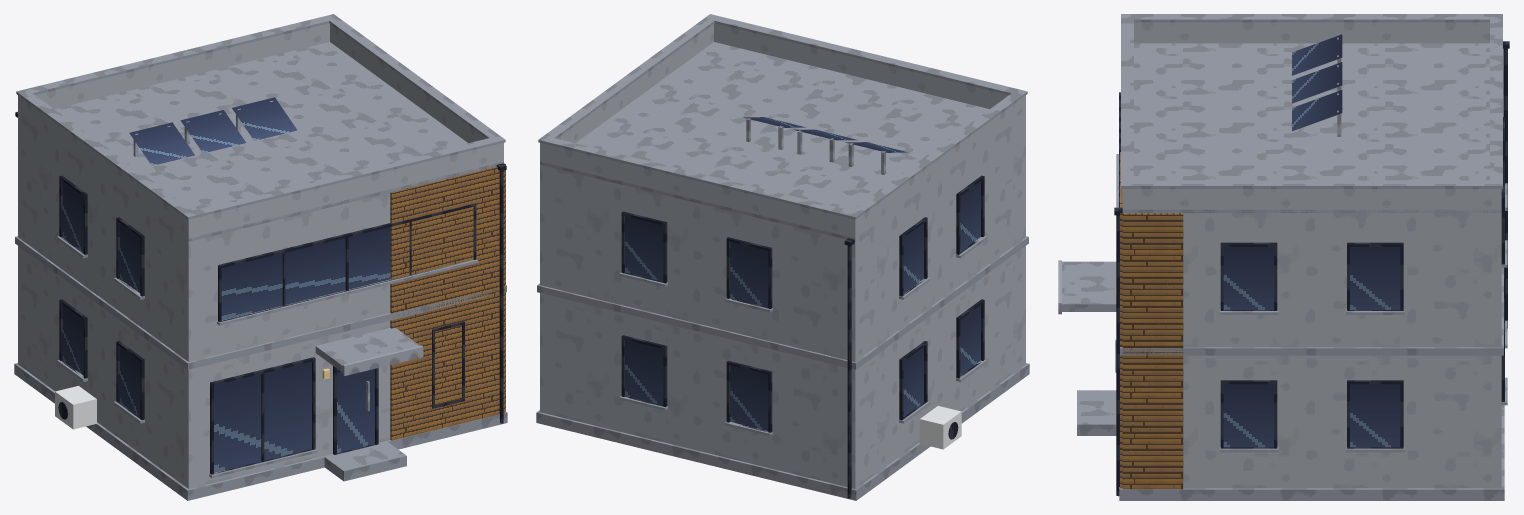
The model's file is modern_house_5.glb.
3 views of the same model, side by side, from view 1: azimuth 30°, elevation 25°; view 2: azimuth 150°, elevation 25°; view 3: azimuth 270°, elevation 25° (orthographic). The views are drawn at different scales.
Visible parts, largest first — view 1: modern_house_6; view 2: modern_house_6; view 3: modern_house_6.
Part boxes in pixels (x1,y1,x2,y2): modern_house_6: (14,14,507,500); modern_house_6: (536,14,1029,500); modern_house_6: (1058,14,1509,500).
Size of the model in its own units: 8.8 by 6.9 by 8.93.
Materials: 9 (9 with a texture image).
